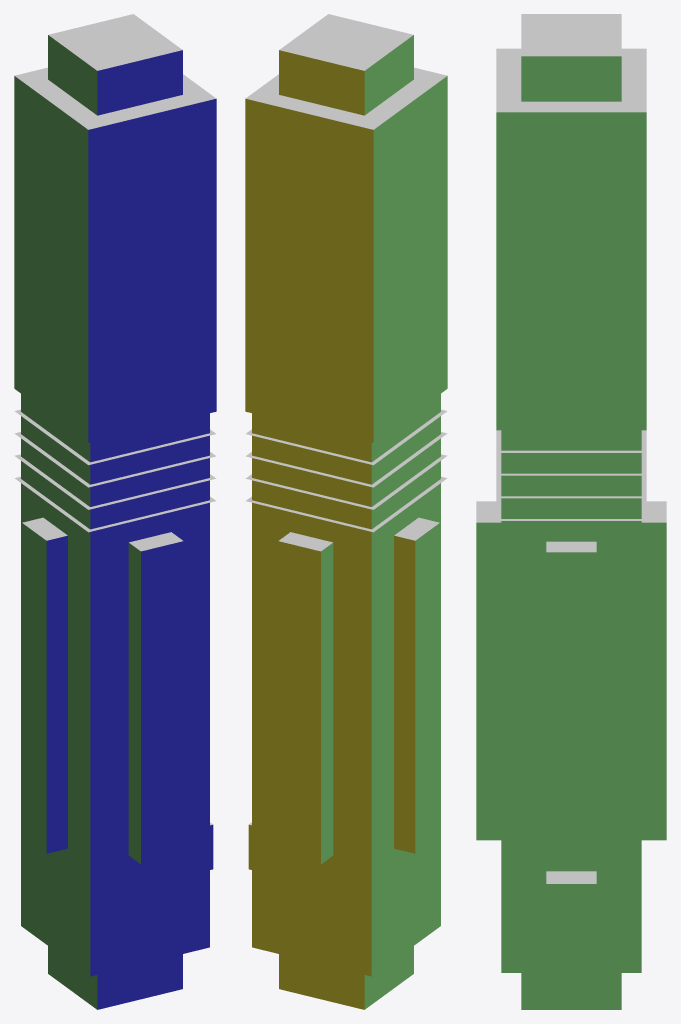
Rendered from mace.obj.
3 renders of one model, left to right at view 1: azimuth 30°, elevation 25°; view 2: azimuth 150°, elevation 25°; view 3: azimuth 270°, elevation 25°, orthographic.
Visible parts, largest first — view 1: body.010_Cube.036, emitter.010_Cube.035, pommel.010_Cube.037; view 2: body.010_Cube.036, emitter.010_Cube.035, pommel.010_Cube.037; view 3: body.010_Cube.036, emitter.010_Cube.035, pommel.010_Cube.037.
Boxes of the visible parts, x1=… form: body.010_Cube.036: x1=14, y1=394, x2=216, y2=887; emitter.010_Cube.035: x1=14, y1=14, x2=216, y2=442; pommel.010_Cube.037: x1=21, y1=822, x2=213, y2=1009; body.010_Cube.036: x1=245, y1=394, x2=447, y2=887; emitter.010_Cube.035: x1=245, y1=14, x2=447, y2=442; pommel.010_Cube.037: x1=248, y1=822, x2=440, y2=1009; body.010_Cube.036: x1=476, y1=430, x2=666, y2=882; emitter.010_Cube.035: x1=496, y1=14, x2=646, y2=430; pommel.010_Cube.037: x1=501, y1=871, x2=641, y2=1009.
Bounding box in the file's own units: 0.39 × 2.1 × 0.38.
Materials: 1 (1 with a texture image).
